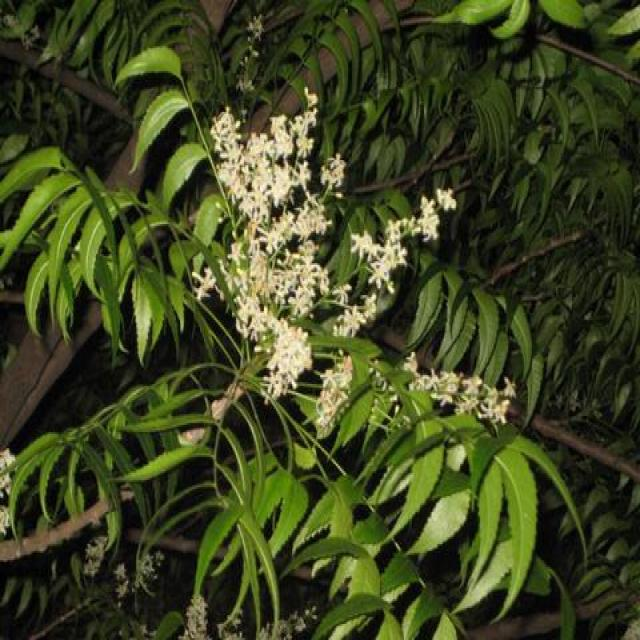Medicinal-Neem: (8, 23, 543, 640), (512, 99, 640, 416)
